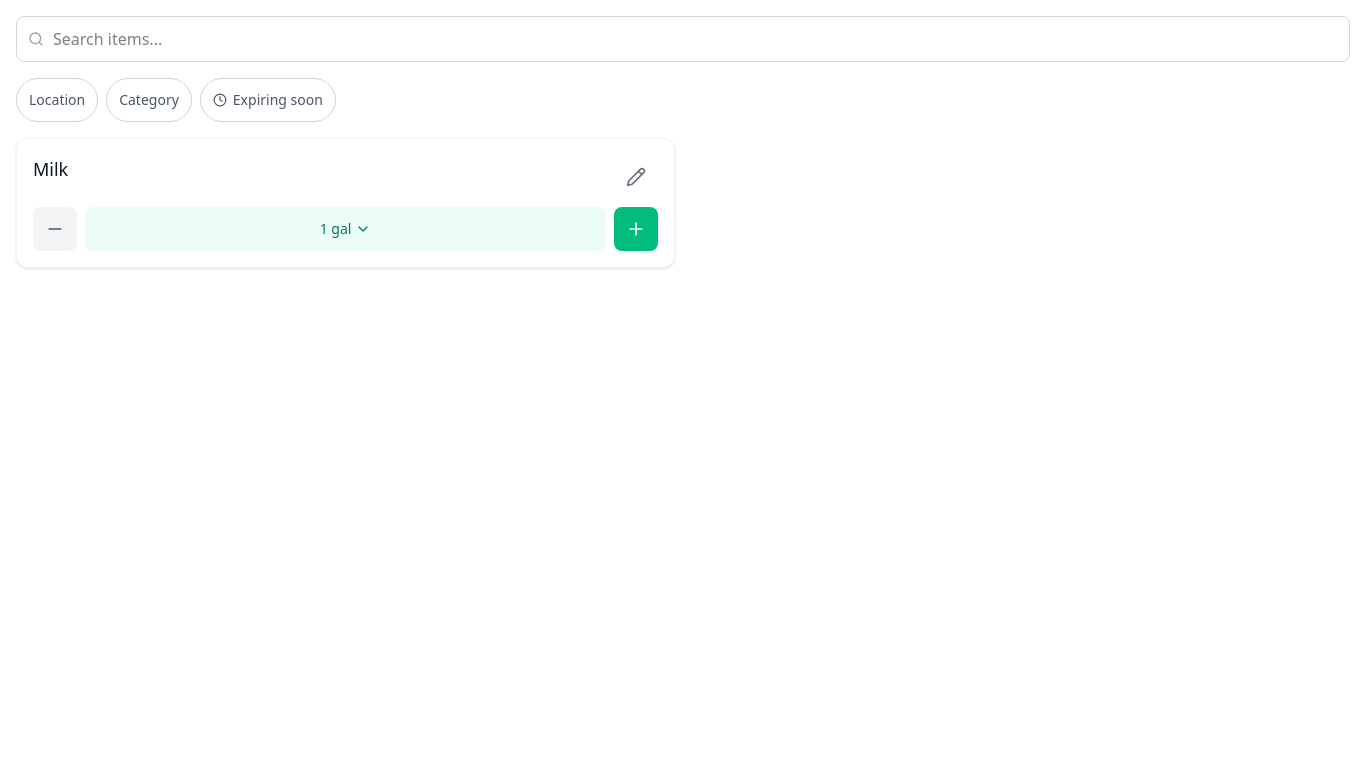
Test case: HomePage › zero-quantity confirm › opens the same dialog when partial use would reach zero
Click the button with aria-label "Open partial use slider" at (346, 229), box [85,207,606,251]
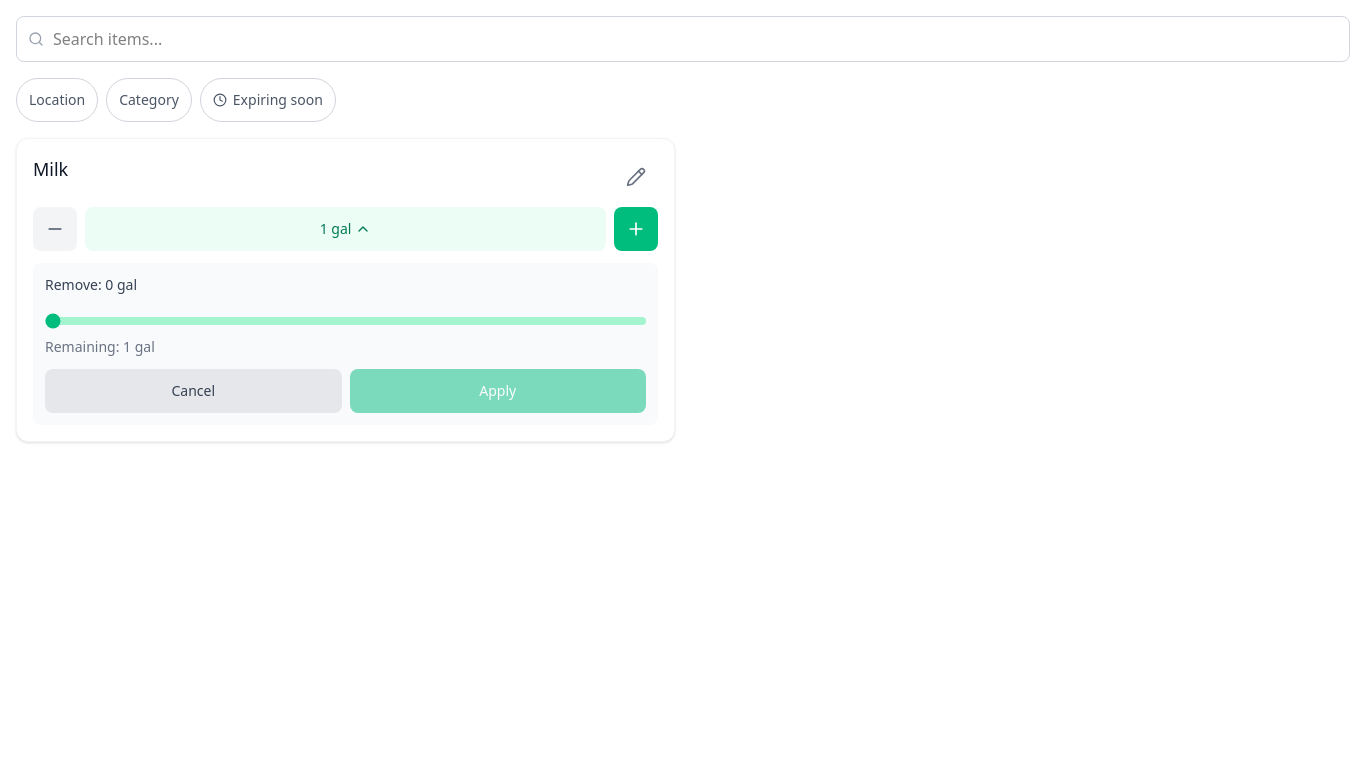
Set the slider named "Amount to remove" to "1" at (638, 321), box [45,317,646,325]
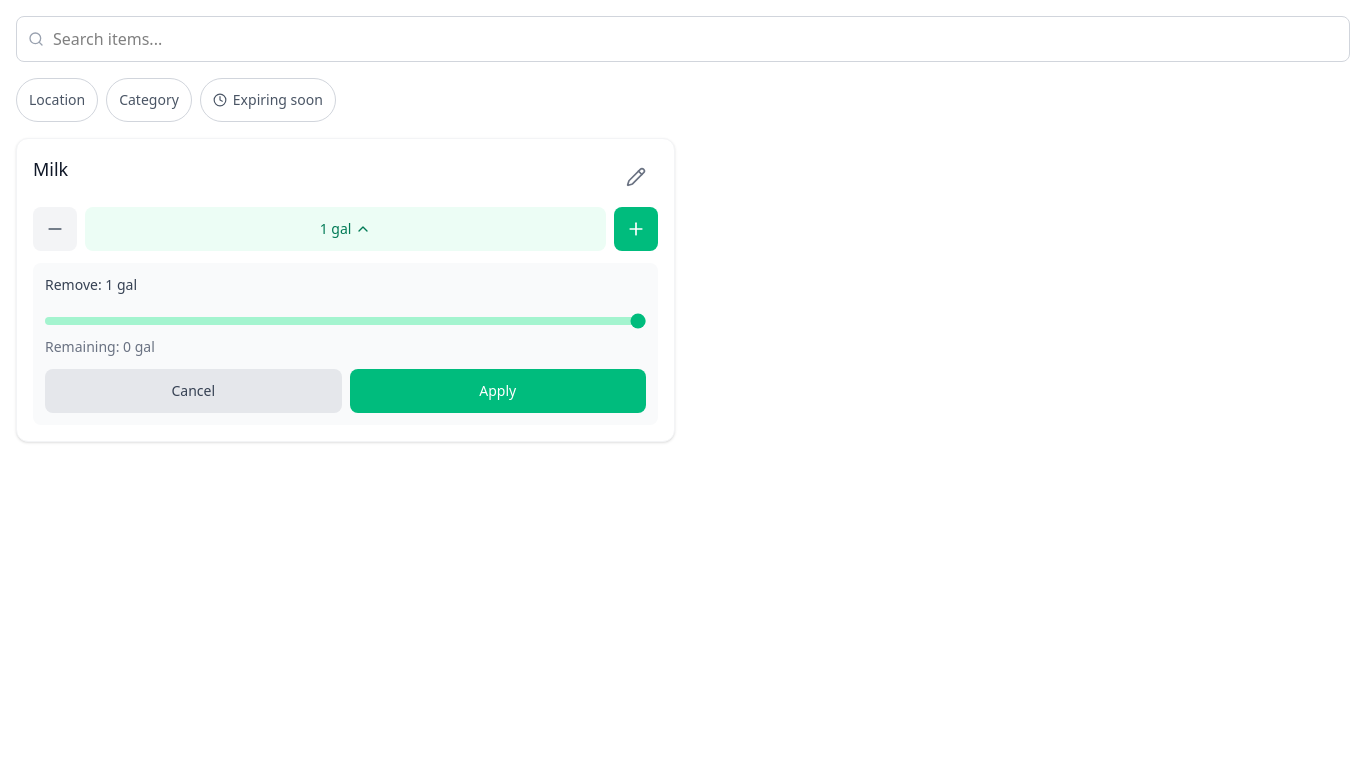
Click the button "Apply" at (498, 391), box [350,369,646,413]
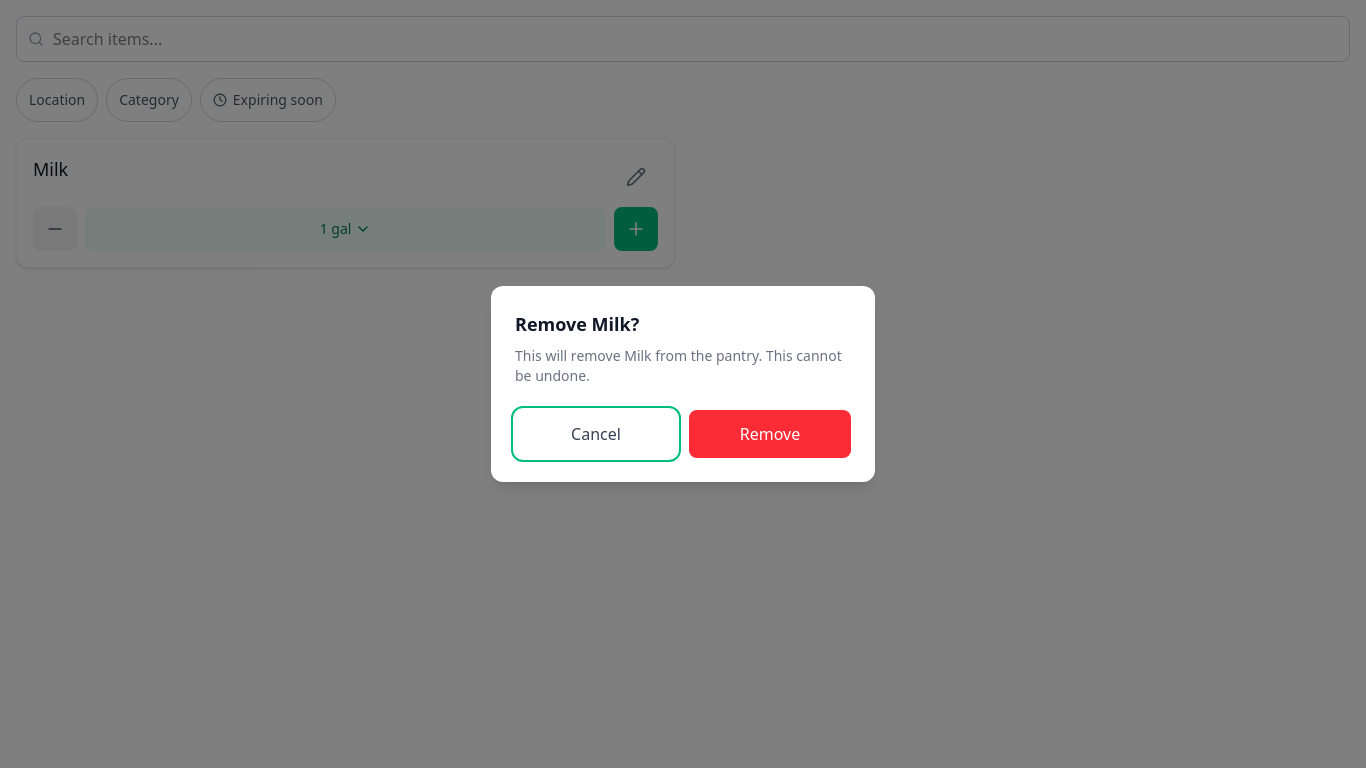
expect the heading "Remove Milk?" is shown: met, box [515,312,639,336]
